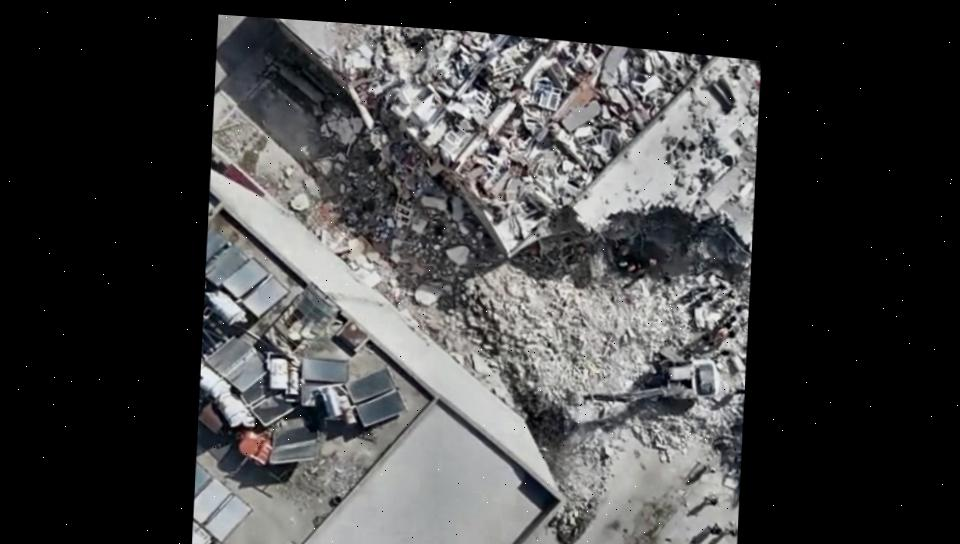kapali: (521, 288, 750, 544)
